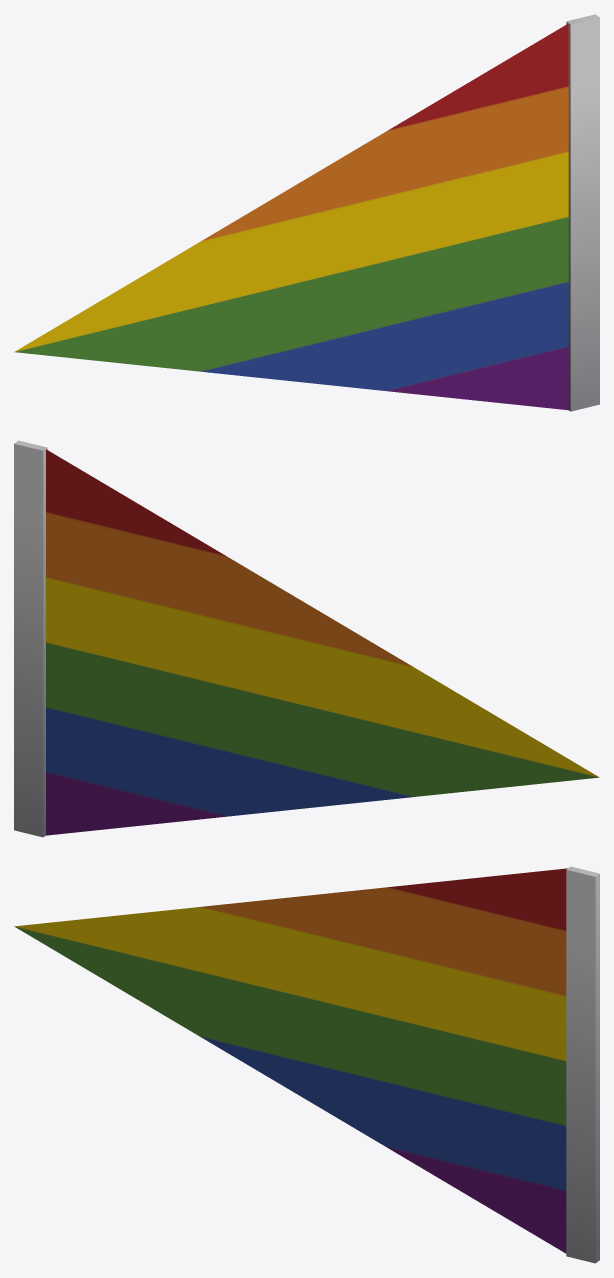
Rendered from m_Pride_WallFlag01.fbx.
The picture shows the model from 3 angles, top to bottom: view 1: azimuth 30°, elevation 25°; view 2: azimuth 150°, elevation 25°; view 3: azimuth 330°, elevation 25°; orthographic projection.
Visible parts, largest first — view 1: m_Pride_WallFlag01; view 2: m_Pride_WallFlag01; view 3: m_Pride_WallFlag01.
Boxes of the visible parts, bbox=[...] form: m_Pride_WallFlag01: bbox=[14, 14, 599, 411]; m_Pride_WallFlag01: bbox=[14, 440, 599, 837]; m_Pride_WallFlag01: bbox=[14, 866, 599, 1263].
Size of the model in its own units: 39.8 by 25.2 by 0.5263.
